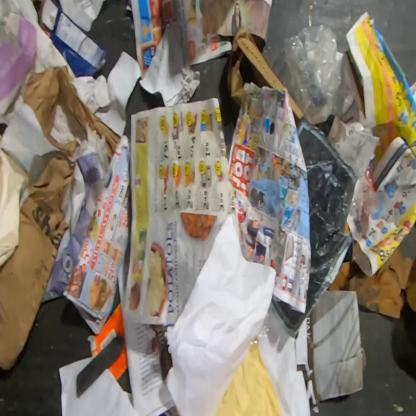cardboard: (226, 25, 308, 123), (325, 244, 415, 320), (37, 0, 108, 80)
rigid_plastic: (248, 307, 270, 350)
soft_plastic: (284, 24, 346, 125), (222, 121, 236, 162)
